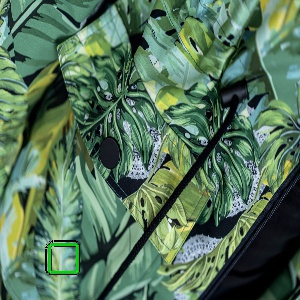square: (43, 240, 81, 277)
